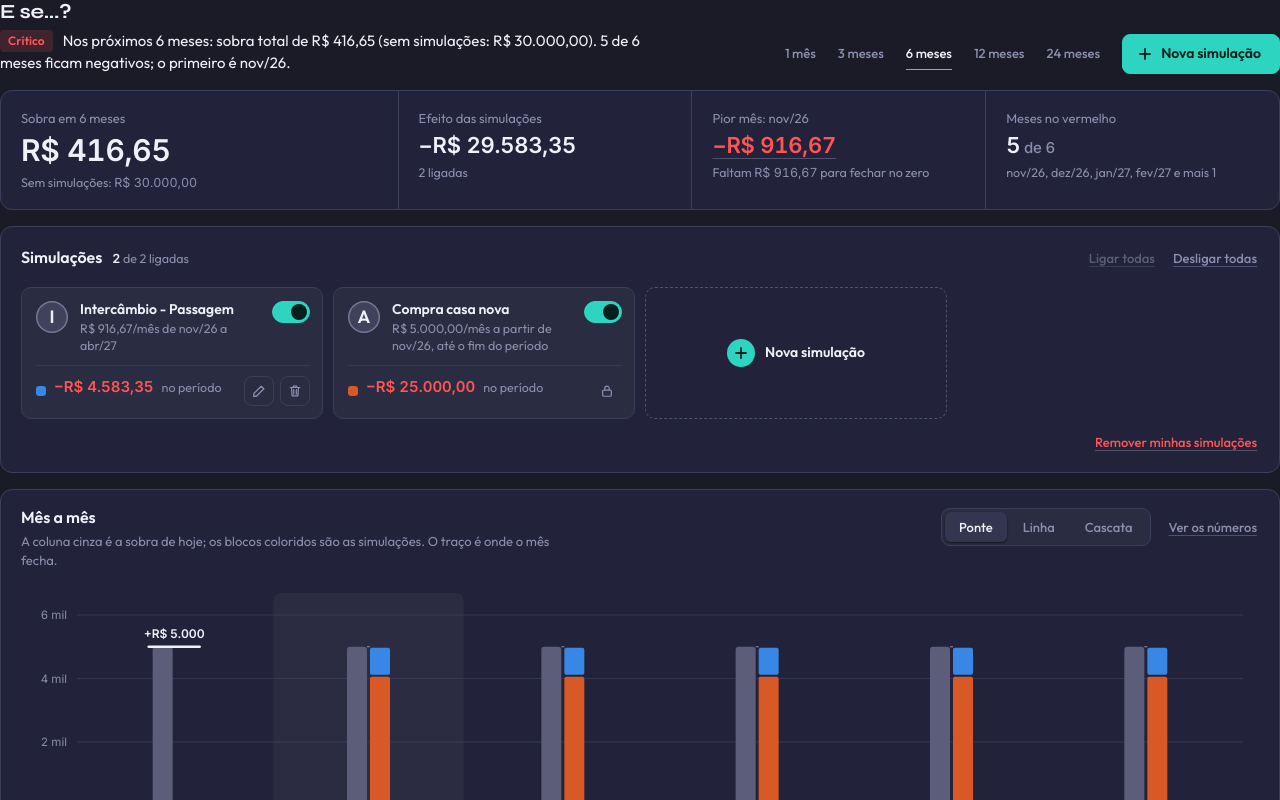
Test case: WhatIfView: editar e excluir pelo cartão › Editar abre o painel preenchido com a simulação
The image size is (1280, 800).
Step 1. Click the button named "Editar Intercâmbio - Passagem" → (259, 391), box [244,376,274,406]
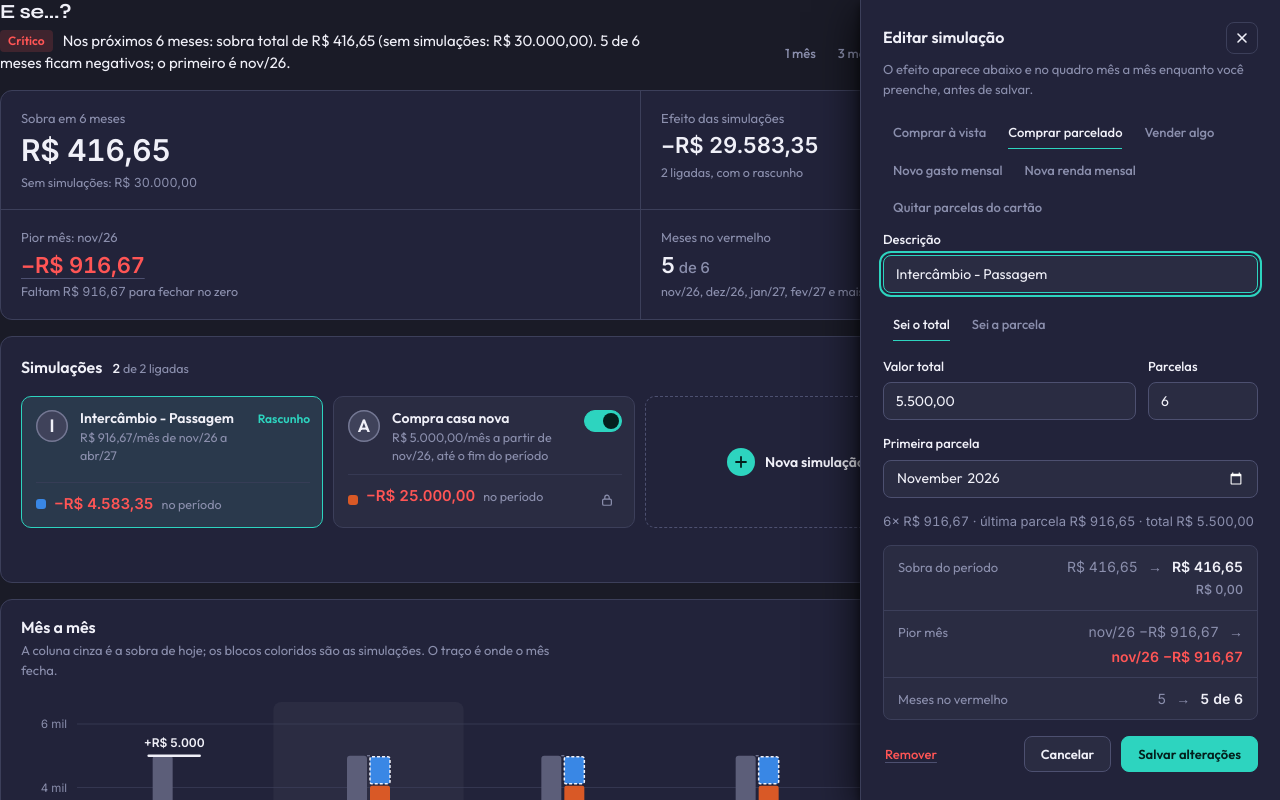
Expected: the field labelled "Descrição" holds "Intercâmbio - Passagem", [883,255,1258,293]
Expected: the number field labelled "Parcelas" holds "6", [1148,382,1258,420]
